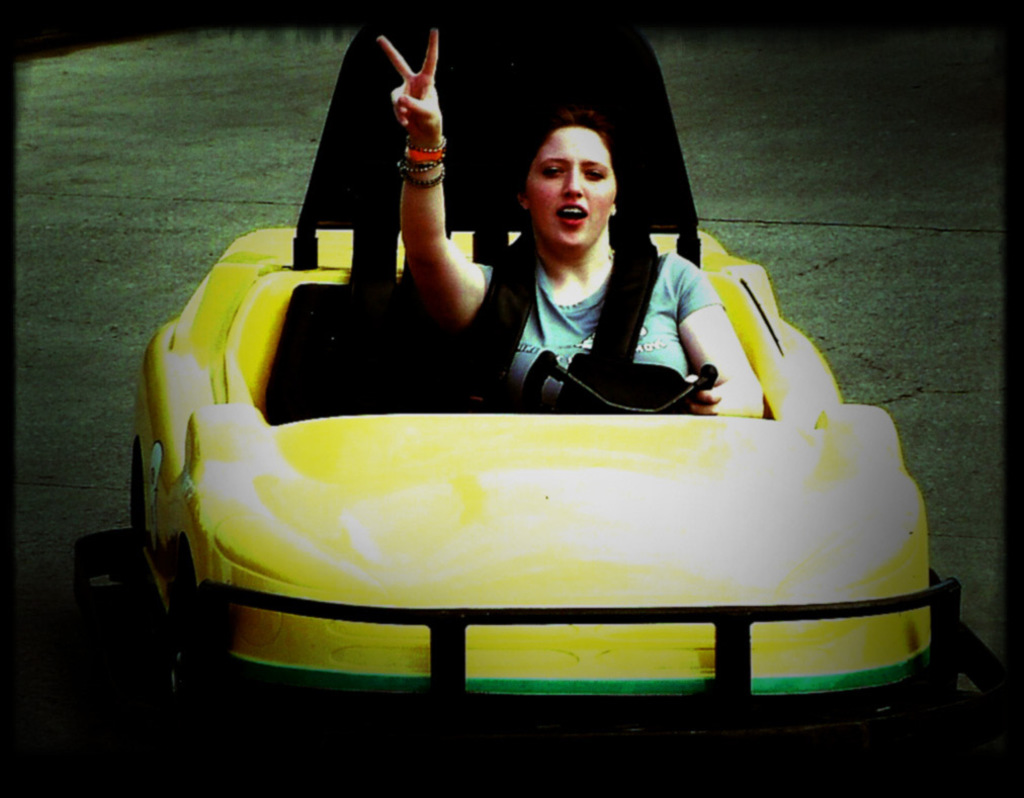cars: (115, 268, 984, 698)
